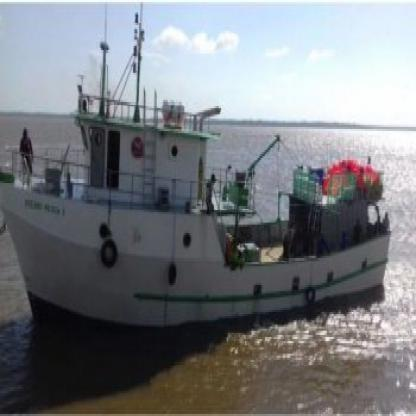Ship: (1, 1, 395, 353)
